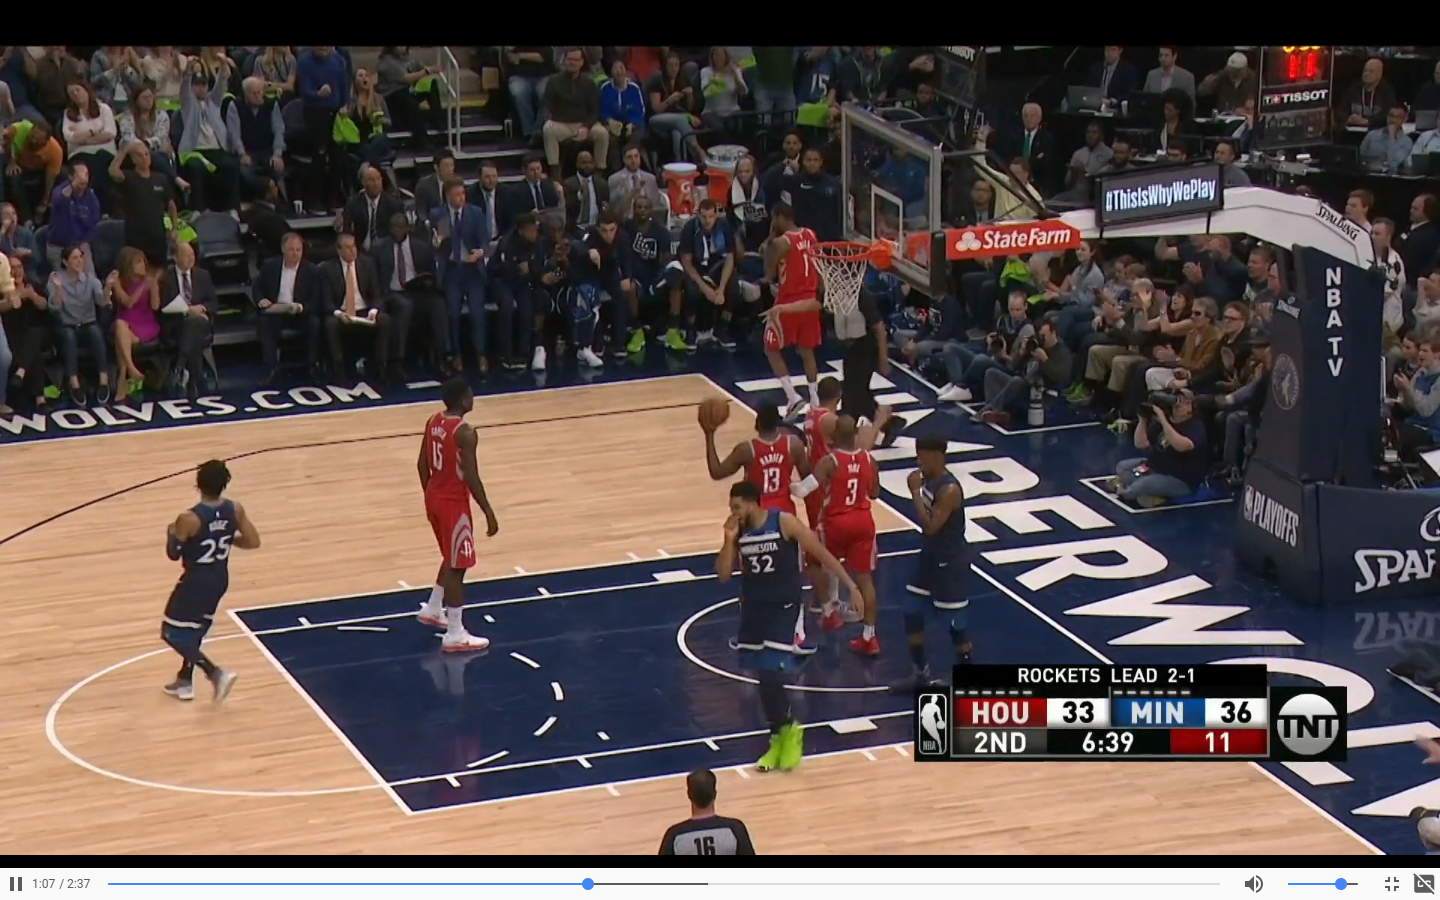ball: (698, 400, 723, 427)
player: (714, 487, 843, 750), (156, 456, 243, 693), (901, 424, 981, 678), (421, 386, 480, 629)
